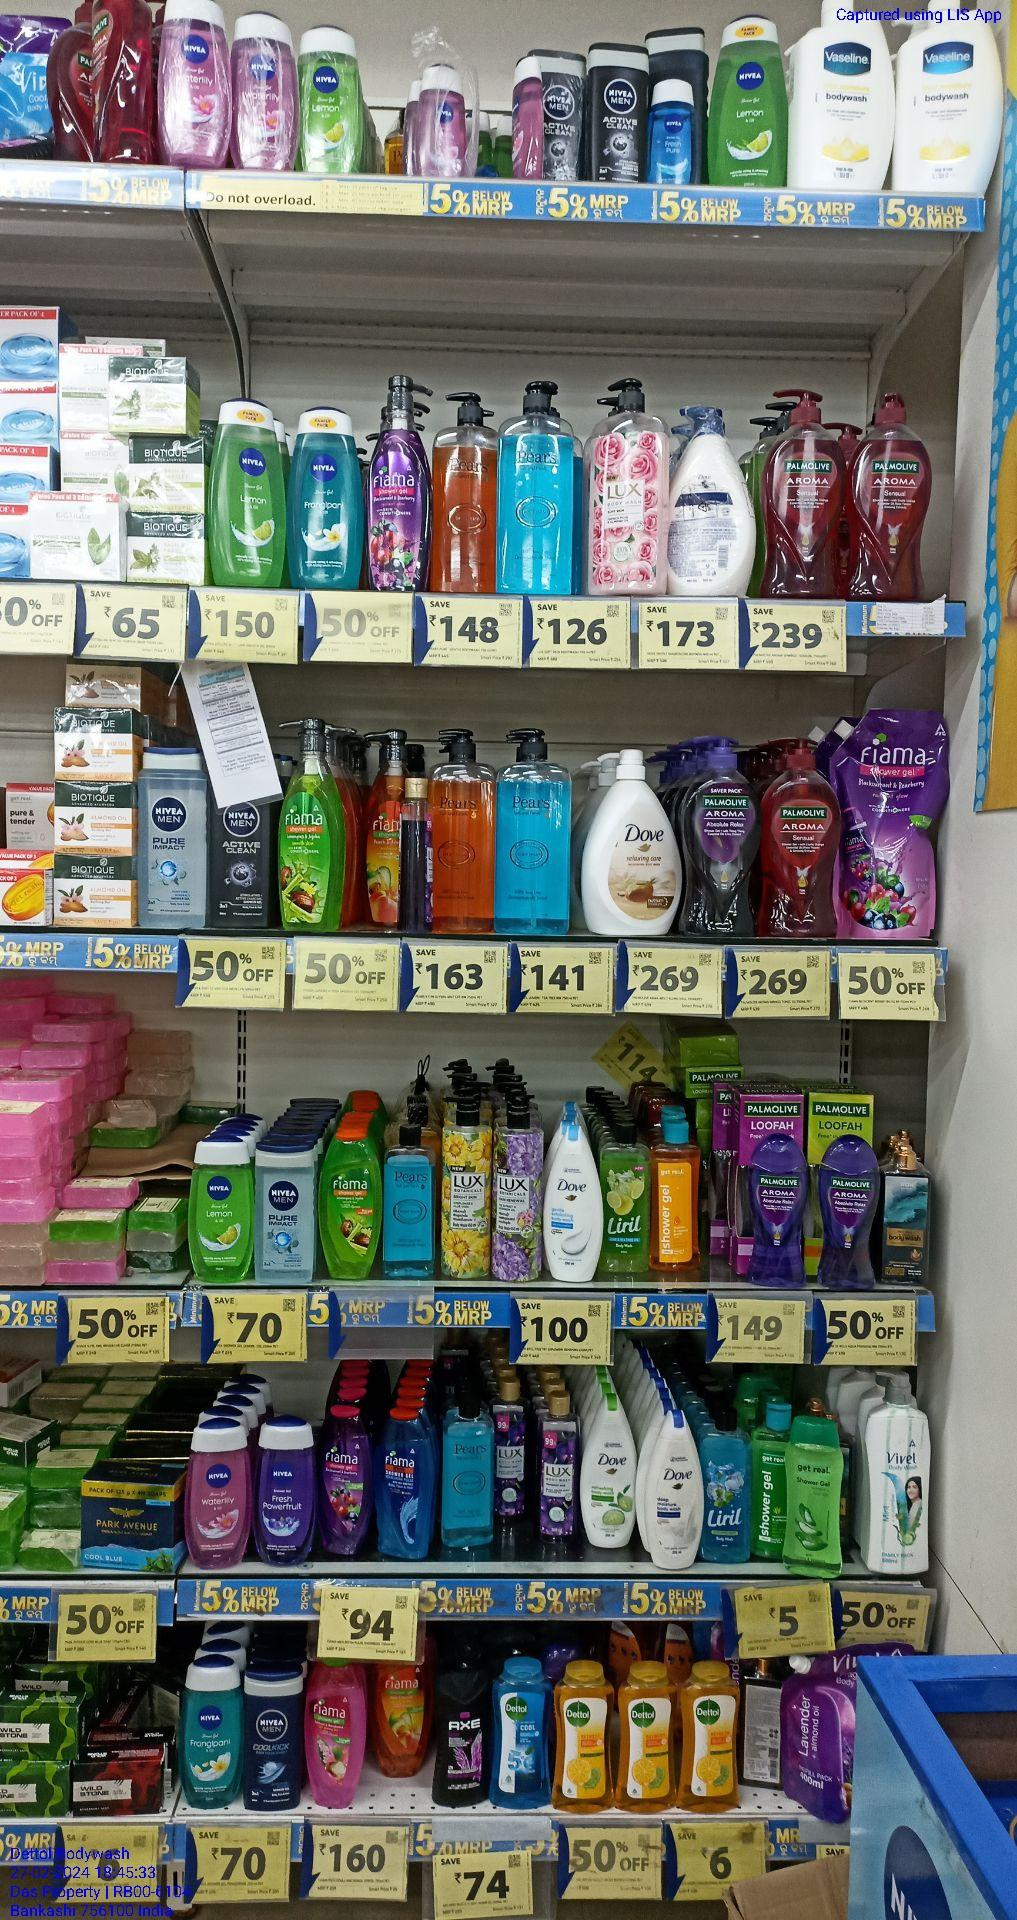Dettol_Bodywash_Cool: (490, 1658, 550, 1811)
Dettol_Bodywash_Refresh: (559, 1666, 618, 1822), (682, 1669, 745, 1813), (622, 1665, 678, 1813)
Dove_Deep_Moisture_Body_Wash_250ML: (649, 1406, 698, 1572)
Dove_Gentle_Exfoliating_Body_Wash_250ML: (545, 1121, 601, 1284)
Dove_Refreshing_Body_Wash_250ML: (585, 1397, 635, 1548)
Fiama_Shower_Gel_Lemongrass_and_Jojoba_250ML: (322, 1128, 377, 1285)
Fiama_Shower_Gel_Patchouli_and_Macadamia_250ML: (305, 1660, 361, 1811)
Fiama_Shower_Gel_Peach_and_Avocado_250ML: (376, 1657, 434, 1778)
Liril_Cooling_Mint_Body_Wash_250ML: (703, 1416, 757, 1563)
Liril_Lime_and_Tea_Tree_Oil_Body_Wash_250ML: (604, 1120, 653, 1275)
Lux_Black_Orchid_Scent_and_Juniper_Oil_Body_Wash_245ML: (541, 1393, 576, 1545), (495, 1383, 535, 1519)
Nivea_Shower_Gel_Frangipani_and_Oil_250ML: (291, 401, 363, 588), (179, 1662, 246, 1812)
Nivea_Shower_Gel_Fresh_Powerfruit_250ML: (260, 1418, 311, 1563)
Nivea_Shower_Gel_Lemon_and_Oil_250ML: (215, 395, 284, 588), (720, 14, 786, 188), (301, 22, 361, 173), (189, 1138, 251, 1283)
Nivea_Shower_Gel_Waterlily_and_Oil_250ML: (163, 0, 235, 164), (188, 1425, 255, 1571), (237, 11, 297, 173)
Palmolive_Aroma_Relax_250ML: (818, 1137, 882, 1294), (749, 1138, 810, 1290)
Pears_Pure_Glycerin_and_Mint_Extracts_Body_Wash_250ML: (385, 1126, 435, 1285), (444, 1399, 493, 1552)
